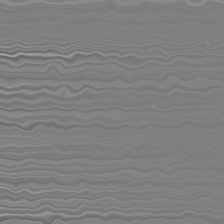cavities: (73, 61, 224, 124)
